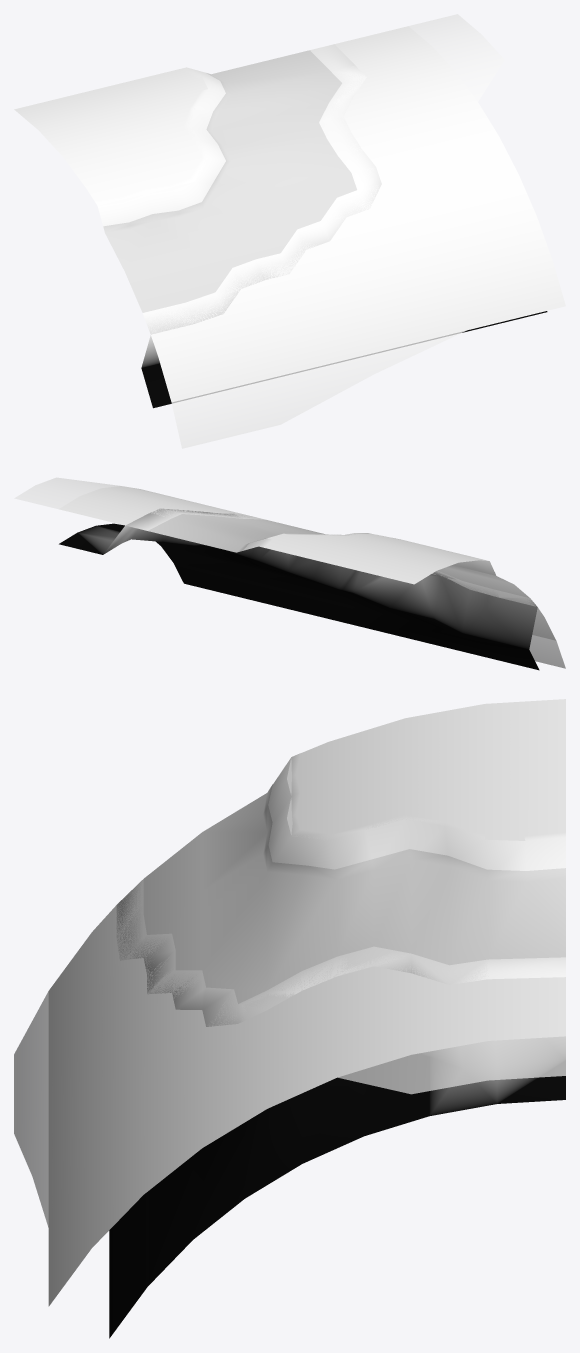
File: grd_Ise_0.dae
3 views of the same model, one above another, from view 1: azimuth 30°, elevation 25°; view 2: azimuth 150°, elevation 25°; view 3: azimuth 270°, elevation 25° (orthographic). The views are drawn at different scales.
Parts seen in each view (by area): view 1: grd_Ise_0; view 2: grd_Ise_0; view 3: grd_Ise_0.
Boxes of the visible parts, left/top/right/bottom form: grd_Ise_0: left=14, top=14, right=565, bottom=448; grd_Ise_0: left=14, top=477, right=565, bottom=670; grd_Ise_0: left=14, top=699, right=565, bottom=1338.
Size of the model in its own units: 576 by 268 by 378.
Materials: 6 (1 with a texture image).
